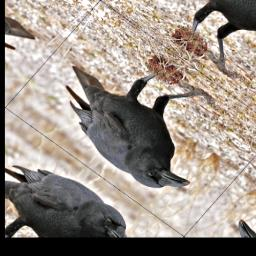Crow: (34, 23, 246, 207)
